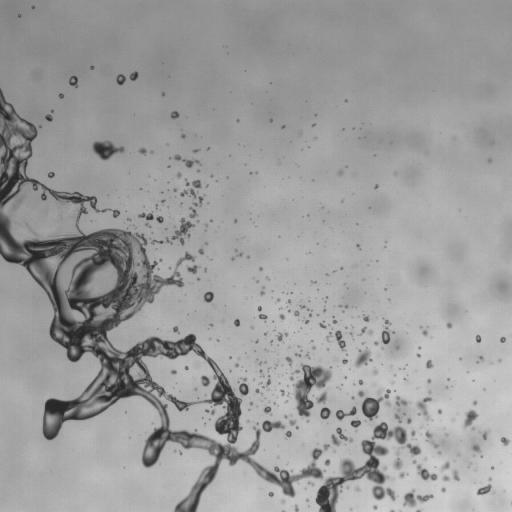droplet: (92, 140, 124, 161), (171, 217, 195, 245), (354, 347, 372, 367), (463, 409, 478, 430), (312, 390, 327, 404), (350, 417, 361, 432), (320, 407, 332, 419), (275, 331, 288, 342), (186, 264, 200, 274), (203, 291, 214, 302), (439, 461, 450, 472), (125, 143, 136, 154), (24, 166, 35, 177), (185, 169, 196, 180), (64, 183, 75, 194), (108, 218, 119, 229), (193, 254, 204, 265), (158, 267, 169, 278), (180, 270, 191, 281), (310, 300, 321, 311), (45, 307, 56, 318), (267, 308, 278, 319), (275, 320, 286, 331), (372, 322, 383, 333), (136, 331, 147, 342), (363, 333, 374, 344), (119, 341, 130, 352), (277, 345, 288, 356), (368, 345, 379, 356), (82, 350, 93, 361), (347, 350, 358, 361), (89, 355, 100, 366), (291, 357, 302, 368), (218, 361, 229, 372), (307, 387, 318, 398), (263, 388, 274, 399), (57, 390, 68, 401), (309, 404, 320, 415), (406, 404, 417, 415), (148, 407, 159, 418), (412, 414, 423, 425), (61, 419, 72, 430), (362, 428, 373, 439), (488, 432, 499, 443), (384, 436, 395, 447), (164, 439, 175, 450), (234, 441, 245, 452), (399, 447, 410, 458), (337, 448, 348, 459), (357, 452, 368, 463), (300, 456, 311, 467), (401, 460, 412, 471), (289, 464, 300, 475), (331, 466, 342, 477), (322, 467, 333, 478), (187, 473, 198, 484), (359, 475, 370, 486), (312, 477, 323, 488), (363, 478, 374, 489), (271, 483, 282, 494), (337, 483, 348, 494), (179, 486, 190, 497), (394, 487, 405, 498), (188, 206, 198, 218), (200, 375, 210, 386), (116, 74, 125, 85), (69, 76, 78, 87), (332, 502, 343, 511), (129, 71, 138, 81), (500, 437, 510, 446), (471, 444, 481, 453), (452, 469, 459, 481), (258, 313, 267, 322), (263, 406, 272, 415), (97, 134, 106, 143), (176, 161, 185, 170), (38, 174, 47, 183), (44, 178, 53, 187), (195, 186, 204, 195), (80, 187, 89, 196), (183, 194, 192, 203), (14, 262, 23, 271), (177, 264, 186, 273), (161, 283, 170, 292), (291, 295, 300, 304), (309, 316, 318, 325), (169, 333, 178, 342), (259, 337, 268, 346), (301, 342, 310, 351), (308, 359, 317, 368), (287, 385, 296, 394), (127, 394, 136, 403), (117, 396, 126, 405), (354, 397, 363, 406), (289, 398, 298, 407), (354, 410, 363, 419), (295, 414, 304, 423), (237, 415, 246, 424), (372, 415, 381, 424), (386, 421, 395, 430), (236, 430, 245, 439), (404, 434, 413, 443), (474, 436, 483, 445), (374, 437, 383, 446), (206, 455, 215, 464), (219, 457, 228, 466), (314, 459, 323, 468), (214, 469, 223, 478), (434, 477, 443, 486), (309, 488, 318, 497), (395, 493, 404, 502), (170, 111, 179, 119), (482, 430, 490, 439), (394, 413, 401, 423), (310, 505, 321, 511), (403, 505, 414, 511), (138, 147, 146, 155), (362, 314, 370, 322), (441, 474, 450, 481), (422, 326, 428, 336), (44, 114, 52, 121), (156, 215, 163, 223), (426, 360, 433, 368), (357, 390, 365, 397), (475, 334, 481, 343), (255, 388, 262, 395), (292, 504, 299, 511), (124, 77, 131, 84), (30, 139, 37, 146), (112, 141, 119, 148), (92, 152, 99, 159), (110, 152, 117, 159), (169, 158, 176, 165), (178, 183, 185, 190), (82, 200, 89, 207), (150, 218, 157, 225), (187, 226, 194, 233), (190, 249, 197, 256), (185, 259, 192, 266), (9, 261, 16, 268), (151, 267, 158, 274), (257, 271, 264, 278), (259, 278, 266, 285), (169, 283, 176, 290), (279, 298, 286, 305), (289, 303, 296, 310), (299, 308, 306, 315), (118, 320, 125, 327), (43, 323, 50, 330), (332, 323, 339, 330), (387, 324, 394, 331), (105, 329, 112, 336), (178, 332, 185, 339), (59, 346, 66, 353), (204, 349, 211, 356), (338, 351, 345, 358), (260, 363, 267, 370), (321, 363, 328, 370), (397, 370, 404, 377), (371, 374, 378, 381), (247, 385, 254, 392), (233, 390, 240, 397), (388, 392, 395, 399), (416, 394, 423, 401), (323, 400, 330, 407), (238, 403, 245, 410), (467, 403, 474, 410), (38, 404, 45, 411), (472, 405, 479, 412), (343, 406, 350, 413), (355, 407, 362, 414), (328, 412, 335, 419), (263, 413, 270, 420), (351, 413, 358, 420), (459, 413, 466, 420), (346, 414, 353, 421), (268, 415, 275, 422), (281, 418, 288, 425), (471, 418, 478, 425), (154, 421, 161, 428), (400, 421, 407, 428), (284, 423, 291, 430), (57, 428, 64, 435), (146, 428, 153, 435), (259, 430, 266, 437), (431, 434, 438, 441), (325, 437, 332, 444), (188, 446, 195, 453), (201, 448, 208, 455), (158, 450, 165, 457), (249, 453, 256, 460), (362, 453, 369, 460), (375, 453, 382, 460), (414, 453, 421, 460), (236, 458, 243, 465), (151, 462, 158, 469), (448, 463, 455, 470), (376, 464, 383, 471), (399, 465, 406, 472), (444, 468, 451, 475), (381, 469, 388, 476), (436, 471, 443, 478), (307, 474, 314, 481), (300, 476, 307, 483), (343, 479, 350, 486), (290, 480, 297, 487), (441, 480, 448, 487), (479, 480, 486, 487), (380, 481, 387, 488), (199, 491, 206, 498), (382, 493, 389, 500), (172, 497, 179, 504), (371, 497, 378, 504), (198, 246, 204, 254), (286, 299, 292, 307), (233, 318, 239, 326), (173, 326, 179, 334), (372, 367, 378, 375), (285, 430, 291, 438), (506, 335, 511, 344), (506, 431, 511, 440), (194, 506, 203, 511), (176, 171, 182, 178), (279, 313, 285, 320), (324, 459, 330, 466), (307, 480, 314, 486), (332, 316, 337, 324), (48, 172, 54, 178), (446, 322, 452, 328), (500, 336, 506, 342), (342, 358, 348, 364), (0, 146, 4, 155), (294, 310, 299, 317), (280, 389, 285, 396), (192, 149, 200, 153), (356, 244, 361, 250), (303, 319, 309, 324), (273, 363, 278, 369), (170, 369, 176, 374), (358, 379, 363, 385), (437, 408, 442, 414), (406, 417, 411, 423), (354, 486, 360, 491), (440, 487, 446, 492), (268, 491, 273, 497), (507, 440, 511, 447), (58, 93, 63, 98), (338, 170, 343, 175), (275, 298, 280, 303), (472, 400, 477, 405), (129, 68, 134, 73), (135, 76, 140, 81), (69, 84, 74, 89), (2, 91, 7, 96), (4, 96, 9, 101), (14, 107, 19, 112), (166, 110, 171, 115), (50, 112, 55, 117), (27, 117, 32, 122), (173, 117, 178, 122), (36, 128, 41, 133), (176, 130, 181, 135), (138, 143, 143, 148), (145, 147, 150, 152), (138, 152, 143, 157), (169, 152, 174, 157), (186, 155, 191, 160), (26, 158, 31, 163), (191, 162, 196, 167), (342, 167, 347, 172), (172, 169, 177, 174), (179, 175, 184, 180), (187, 177, 192, 182), (200, 181, 205, 186), (188, 183, 193, 188), (192, 186, 197, 191), (178, 187, 183, 192), (87, 191, 92, 196), (179, 196, 184, 201), (194, 197, 199, 202), (157, 202, 162, 207), (94, 203, 99, 208), (111, 204, 116, 209), (194, 206, 199, 211), (187, 209, 192, 214), (107, 210, 112, 215), (152, 213, 157, 218), (116, 214, 121, 219), (141, 216, 146, 221), (184, 216, 189, 221), (189, 218, 194, 223), (147, 219, 152, 224), (160, 221, 165, 226), (175, 225, 180, 230), (130, 229, 135, 234), (83, 230, 88, 235), (143, 233, 148, 238), (146, 238, 151, 243), (174, 238, 179, 243), (195, 244, 200, 249), (202, 247, 207, 252), (179, 252, 184, 257), (241, 253, 246, 258), (173, 256, 178, 261), (234, 256, 239, 261), (148, 259, 153, 264), (170, 263, 175, 268), (195, 267, 200, 272), (326, 268, 331, 273), (26, 273, 31, 278), (32, 280, 37, 285), (312, 283, 317, 288), (206, 286, 211, 291), (256, 286, 261, 291), (203, 287, 208, 292), (209, 287, 214, 292), (153, 293, 158, 298), (286, 293, 291, 298), (199, 295, 204, 300), (211, 297, 216, 302), (144, 301, 149, 306), (206, 301, 211, 306), (276, 301, 281, 306), (305, 302, 310, 307), (259, 309, 264, 314), (281, 309, 286, 314), (289, 310, 294, 315), (311, 310, 316, 315), (126, 317, 131, 322), (448, 318, 453, 323), (238, 319, 243, 324), (46, 320, 51, 325), (362, 320, 367, 325), (299, 321, 304, 326), (451, 322, 456, 327), (230, 323, 235, 328), (441, 323, 446, 328), (325, 326, 330, 331), (346, 327, 351, 332), (417, 328, 422, 333), (426, 328, 431, 333), (287, 331, 292, 336), (362, 331, 367, 336), (389, 333, 394, 338), (160, 335, 165, 340), (281, 335, 286, 340), (331, 335, 336, 340), (272, 336, 277, 341), (377, 337, 382, 342), (194, 338, 199, 343), (388, 339, 393, 344), (312, 340, 317, 345), (323, 341, 328, 346), (383, 343, 388, 348), (201, 345, 206, 350), (360, 345, 365, 350), (308, 348, 313, 353), (416, 348, 421, 353), (300, 350, 305, 355), (289, 353, 294, 358), (259, 356, 264, 361), (65, 358, 70, 363), (231, 358, 236, 363), (430, 359, 435, 364), (283, 360, 288, 365), (421, 360, 426, 365), (493, 360, 498, 365), (344, 362, 349, 367), (399, 362, 404, 367), (360, 363, 365, 368), (255, 364, 260, 369), (231, 366, 236, 371), (376, 366, 381, 371), (392, 367, 397, 372), (426, 367, 431, 372), (262, 369, 267, 374), (92, 371, 97, 376), (223, 371, 228, 376), (269, 376, 274, 381), (262, 377, 267, 382), (86, 378, 91, 383), (340, 378, 345, 383), (324, 380, 329, 385), (446, 380, 451, 385), (427, 382, 432, 387), (256, 384, 261, 389), (358, 384, 363, 389), (395, 390, 400, 395), (423, 392, 428, 397), (325, 393, 330, 398), (282, 394, 287, 399), (399, 394, 404, 399), (359, 396, 364, 401), (468, 397, 473, 402), (145, 400, 150, 405), (424, 400, 429, 405), (378, 401, 383, 406), (399, 403, 404, 408), (270, 404, 275, 409), (107, 405, 112, 410), (415, 407, 420, 412), (464, 407, 469, 412), (293, 408, 298, 413), (102, 409, 107, 414), (397, 411, 402, 416), (436, 413, 441, 418), (93, 414, 98, 419), (419, 414, 424, 419), (88, 416, 93, 421), (82, 418, 87, 423), (321, 418, 326, 423), (258, 419, 263, 424), (257, 424, 262, 429), (357, 424, 362, 429), (466, 424, 471, 429), (349, 425, 354, 430), (270, 427, 275, 432), (420, 428, 425, 433), (341, 430, 346, 435), (38, 431, 43, 436), (334, 432, 339, 437), (486, 433, 491, 438), (504, 434, 509, 439), (251, 435, 256, 440), (41, 436, 46, 441), (52, 436, 57, 441), (339, 438, 344, 443), (140, 441, 145, 446), (410, 441, 415, 446), (229, 442, 234, 447), (318, 444, 323, 449), (357, 444, 362, 449), (257, 445, 262, 450), (436, 445, 441, 450), (308, 446, 313, 451), (138, 447, 143, 452), (433, 447, 438, 452), (474, 451, 479, 456), (137, 458, 142, 463), (440, 459, 445, 464), (258, 460, 263, 465), (411, 463, 416, 468), (420, 463, 425, 468), (469, 464, 474, 469), (278, 465, 283, 470), (269, 468, 274, 473), (427, 469, 432, 474), (457, 472, 462, 477), (416, 474, 421, 479), (426, 477, 431, 482), (489, 480, 494, 485), (341, 481, 346, 486), (390, 485, 395, 490), (473, 486, 478, 491), (405, 488, 410, 493), (353, 490, 358, 495), (412, 491, 417, 496), (419, 491, 424, 496), (483, 492, 488, 497), (284, 494, 289, 499), (280, 504, 285, 509), (297, 504, 302, 509), (310, 280, 316, 284), (257, 305, 261, 311), (252, 339, 258, 343), (374, 184, 378, 189), (173, 188, 178, 192), (161, 199, 165, 204), (265, 276, 270, 280), (373, 341, 378, 345), (416, 353, 421, 357), (478, 356, 483, 360), (184, 365, 188, 370), (427, 378, 431, 383), (371, 383, 376, 387), (249, 401, 253, 406), (419, 424, 424, 428), (423, 456, 427, 461), (280, 499, 285, 503), (181, 134, 185, 138), (127, 217, 131, 221), (209, 323, 213, 327), (250, 325, 254, 329), (264, 331, 268, 335), (312, 345, 316, 349), (234, 363, 238, 367), (392, 373, 396, 377), (342, 375, 346, 379), (246, 419, 250, 423), (305, 498, 309, 502), (373, 505, 377, 509), (349, 507, 353, 511), (234, 218, 237, 223), (259, 266, 262, 271), (270, 340, 273, 345), (179, 450, 182, 455), (289, 508, 294, 511), (31, 5, 34, 9), (90, 66, 94, 69), (161, 92, 164, 96), (236, 118, 239, 122), (269, 118, 272, 122), (312, 123, 316, 126), (281, 125, 285, 128), (206, 147, 210, 150), (488, 158, 491, 162), (246, 255, 250, 258), (396, 345, 399, 349), (498, 358, 501, 362), (390, 365, 393, 369), (445, 385, 448, 389), (194, 387, 197, 391), (350, 396, 354, 399), (284, 400, 288, 403), (451, 418, 455, 421), (437, 451, 441, 454), (488, 477, 491, 481), (204, 267, 206, 272), (0, 127, 2, 132), (0, 254, 2, 259), (344, 99, 347, 102), (314, 136, 317, 139), (150, 150, 153, 153), (196, 169, 199, 172), (249, 171, 252, 174), (210, 174, 213, 177), (205, 184, 208, 187), (139, 187, 142, 190), (209, 219, 212, 222), (196, 220, 199, 223), (168, 266, 171, 269), (340, 266, 343, 269), (197, 277, 200, 280), (256, 280, 259, 283), (387, 298, 390, 301), (287, 309, 290, 312), (419, 325, 422, 328), (344, 326, 347, 329), (208, 337, 211, 340), (310, 339, 313, 342), (418, 346, 421, 349), (326, 348, 329, 351), (459, 357, 462, 360), (403, 378, 406, 381), (391, 381, 394, 384), (445, 433, 448, 436), (173, 449, 176, 452), (472, 454, 475, 457), (480, 455, 483, 458), (491, 466, 494, 469), (31, 2, 34, 5), (34, 4, 37, 7), (28, 6, 31, 9), (31, 8, 34, 11), (14, 13, 17, 16), (20, 14, 23, 17), (17, 17, 20, 20), (90, 62, 93, 65), (87, 66, 90, 69), (93, 66, 96, 69), (90, 69, 93, 72), (71, 72, 74, 75), (76, 76, 79, 79), (76, 80, 79, 83), (114, 81, 117, 84), (60, 90, 63, 93), (56, 91, 59, 94), (158, 92, 161, 95), (164, 92, 167, 95), (63, 94, 66, 97), (56, 96, 59, 99), (60, 97, 63, 100), (341, 97, 344, 100), (346, 97, 349, 100), (343, 101, 346, 104), (50, 106, 53, 109), (171, 108, 174, 111), (177, 110, 180, 113), (48, 111, 51, 114), (20, 115, 23, 118), (268, 115, 271, 118), (168, 116, 171, 119), (233, 117, 236, 120), (239, 118, 242, 121), (45, 119, 48, 122), (266, 119, 269, 122), (271, 120, 274, 123), (311, 120, 314, 123), (280, 122, 283, 125), (308, 123, 311, 126), (341, 124, 344, 127), (312, 125, 315, 128), (282, 127, 285, 130), (182, 131, 185, 134), (184, 135, 187, 138), (180, 137, 183, 140), (204, 145, 207, 148), (123, 146, 126, 149), (193, 146, 196, 149), (208, 148, 211, 151), (195, 151, 198, 154), (165, 155, 168, 158), (199, 160, 202, 163), (167, 167, 170, 170), (199, 168, 202, 171), (46, 169, 49, 172), (51, 169, 54, 172), (251, 171, 254, 174), (207, 172, 210, 175), (52, 175, 55, 178), (174, 176, 177, 179), (211, 176, 214, 179), (372, 183, 375, 186), (139, 184, 142, 187), (207, 185, 210, 188), (375, 187, 378, 190), (159, 188, 162, 191), (169, 188, 172, 191), (139, 189, 142, 192), (78, 190, 81, 193), (163, 190, 166, 193), (95, 195, 98, 198), (160, 196, 163, 199), (201, 199, 204, 202), (163, 200, 166, 203), (176, 201, 179, 204), (192, 205, 195, 208), (98, 211, 101, 214), (119, 211, 122, 214), (138, 211, 141, 214), (303, 214, 306, 217), (128, 215, 131, 218), (178, 216, 181, 219), (231, 217, 234, 220), (212, 218, 215, 221), (162, 219, 165, 222), (236, 219, 239, 222), (208, 221, 211, 224), (202, 225, 205, 228), (126, 228, 129, 231), (172, 232, 175, 235), (151, 236, 154, 239), (156, 237, 159, 240), (168, 237, 171, 240), (162, 238, 165, 241), (356, 240, 359, 243), (153, 241, 156, 244), (161, 242, 164, 245), (167, 242, 170, 245), (384, 242, 387, 245), (359, 244, 362, 247), (355, 246, 358, 249), (383, 247, 386, 250), (144, 250, 147, 253), (236, 251, 239, 254), (247, 252, 250, 255), (159, 255, 162, 258), (208, 255, 211, 258), (375, 256, 378, 259), (155, 258, 158, 261), (247, 258, 250, 261), (228, 259, 231, 262), (372, 259, 375, 262), (154, 264, 157, 267), (260, 264, 263, 267), (255, 266, 258, 269), (332, 267, 335, 270), (336, 267, 339, 270), (206, 268, 209, 271), (340, 269, 343, 272), (259, 270, 262, 273), (333, 271, 336, 274), (268, 275, 271, 278), (324, 275, 327, 278), (255, 276, 258, 279), (312, 277, 315, 280), (199, 278, 202, 281), (181, 279, 184, 282), (252, 279, 255, 282), (196, 280, 199, 283), (316, 280, 319, 283), (307, 281, 310, 284), (345, 283, 348, 286), (383, 284, 386, 287), (380, 287, 383, 290), (262, 288, 265, 291), (290, 288, 293, 291), (386, 288, 389, 291), (283, 290, 286, 293), (383, 290, 386, 293), (257, 292, 260, 295), (261, 294, 264, 297), (327, 295, 330, 298), (273, 297, 276, 300), (323, 297, 326, 300), (284, 298, 287, 301), (290, 298, 293, 301), (385, 299, 388, 302), (321, 301, 324, 304), (257, 302, 260, 305), (300, 302, 303, 305), (341, 302, 344, 305), (260, 304, 263, 307), (347, 304, 350, 307), (254, 306, 257, 309), (324, 306, 327, 309), (341, 306, 344, 309), (285, 307, 288, 310), (302, 307, 305, 310), (320, 307, 323, 310), (307, 310, 310, 313), (324, 310, 327, 313), (255, 315, 258, 318), (294, 315, 297, 318), (368, 315, 371, 318), (233, 316, 236, 319), (306, 316, 309, 319), (333, 316, 336, 319), (384, 316, 387, 319), (265, 317, 268, 320), (278, 317, 281, 320), (330, 317, 333, 320), (282, 318, 285, 321), (381, 319, 384, 322), (388, 319, 391, 322), (209, 320, 212, 323), (307, 321, 310, 324), (271, 322, 274, 325), (172, 323, 175, 326), (208, 325, 211, 328), (236, 325, 239, 328), (360, 325, 363, 328), (271, 326, 274, 329), (319, 326, 322, 329), (422, 326, 425, 329), (448, 327, 451, 330), (170, 328, 173, 331), (298, 328, 301, 331), (263, 329, 266, 332), (284, 329, 287, 332), (294, 329, 297, 332), (358, 329, 361, 332), (260, 332, 263, 335), (266, 332, 269, 335), (331, 332, 334, 335), (501, 333, 504, 336), (217, 336, 220, 339), (310, 336, 313, 339), (497, 336, 500, 339), (253, 337, 256, 340), (307, 338, 310, 341), (480, 338, 483, 341), (323, 339, 326, 342), (473, 339, 476, 342), (497, 339, 500, 342), (214, 340, 217, 343), (251, 341, 254, 344), (310, 341, 313, 344), (344, 341, 347, 344), (255, 342, 258, 345), (267, 342, 270, 345), (298, 342, 301, 345), (500, 342, 503, 345), (416, 343, 419, 346), (336, 344, 339, 347), (315, 346, 318, 349), (255, 348, 258, 351), (323, 348, 326, 351), (296, 350, 299, 353), (228, 352, 231, 355), (308, 352, 311, 355), (478, 352, 481, 355), (459, 354, 462, 357), (225, 355, 228, 358), (231, 355, 234, 358), (369, 355, 372, 358), (414, 355, 417, 358), (482, 355, 485, 358), (344, 356, 347, 359), (455, 356, 458, 359), (252, 357, 255, 360), (476, 357, 479, 360), (256, 359, 259, 362), (339, 359, 342, 362), (274, 360, 277, 363), (366, 360, 369, 363), (404, 360, 407, 363), (216, 362, 219, 365), (407, 362, 410, 365), (272, 364, 275, 367), (218, 365, 221, 368), (237, 365, 240, 368), (404, 365, 407, 368), (275, 366, 278, 369), (268, 368, 271, 371), (400, 368, 403, 371), (256, 370, 259, 373), (268, 371, 271, 374), (343, 372, 346, 375), (288, 373, 291, 376), (241, 374, 244, 377), (446, 374, 449, 377), (346, 376, 349, 379), (358, 376, 361, 379), (392, 376, 395, 379), (405, 376, 408, 379), (471, 376, 474, 379), (443, 377, 446, 380), (361, 378, 364, 381), (424, 378, 427, 381), (401, 379, 404, 382), (430, 379, 433, 382), (355, 381, 358, 384), (362, 381, 365, 384), (471, 381, 474, 384), (267, 384, 270, 387), (447, 384, 450, 387), (339, 385, 342, 388), (280, 386, 283, 389), (335, 387, 338, 390), (258, 388, 261, 391), (390, 389, 393, 392), (278, 391, 281, 394), (284, 391, 287, 394), (257, 392, 260, 395), (275, 400, 278, 403), (252, 401, 255, 404), (476, 401, 479, 404), (266, 403, 269, 406), (394, 404, 397, 407), (336, 407, 339, 410), (441, 409, 444, 412), (126, 410, 129, 413), (427, 419, 430, 422), (428, 430, 431, 433), (290, 433, 293, 436), (424, 435, 427, 438), (480, 436, 483, 439), (345, 440, 348, 443), (430, 444, 433, 447), (176, 450, 179, 453), (482, 455, 485, 458), (479, 457, 482, 460), (487, 465, 490, 468), (493, 465, 496, 468), (490, 469, 493, 472), (403, 474, 406, 477), (454, 479, 457, 482), (440, 491, 443, 494), (267, 495, 270, 498), (271, 495, 274, 498), (428, 497, 431, 500), (390, 506, 393, 509), (51, 109, 53, 113), (180, 202, 182, 206), (205, 223, 207, 227), (332, 270, 336, 272), (325, 273, 329, 275), (309, 313, 311, 317), (204, 422, 206, 426), (18, 14, 20, 17), (314, 114, 317, 116), (167, 165, 170, 167), (255, 171, 258, 173), (341, 199, 343, 202), (164, 228, 167, 230), (205, 242, 207, 245), (157, 267, 159, 270), (384, 288, 387, 290), (324, 300, 326, 303), (316, 314, 319, 316), (216, 339, 219, 341), (361, 342, 364, 344), (229, 356, 231, 359), (476, 361, 479, 363), (490, 362, 493, 364), (398, 367, 400, 370), (229, 369, 231, 372), (466, 371, 469, 373), (252, 378, 254, 381), (447, 378, 450, 380), (286, 384, 288, 387), (304, 487, 306, 490), (297, 509, 300, 511), (346, 509, 349, 511), (351, 509, 354, 511), (373, 509, 376, 511), (352, 127, 354, 129), (342, 128, 344, 130), (166, 143, 168, 145), (169, 157, 171, 159), (345, 165, 347, 167), (226, 176, 228, 178), (167, 181, 169, 183), (161, 191, 163, 193), (307, 214, 309, 216), (356, 223, 358, 225), (204, 229, 206, 231), (384, 245, 386, 247), (210, 258, 212, 260), (362, 278, 364, 280), (286, 292, 288, 294), (308, 300, 310, 302), (342, 310, 344, 312), (273, 329, 275, 331), (293, 331, 295, 333), (288, 346, 290, 348), (381, 347, 383, 349), (403, 367, 405, 369), (472, 379, 474, 381), (278, 382, 280, 384), (341, 383, 343, 385), (353, 383, 355, 385), (394, 389, 396, 391), (483, 388, 485, 390), (204, 394, 206, 396), (248, 408, 250, 410), (403, 413, 405, 415), (344, 443, 346, 445), (277, 456, 279, 458), (503, 490, 505, 492), (308, 146, 309, 148), (374, 154, 375, 156), (167, 206, 169, 207), (278, 236, 280, 237), (346, 287, 348, 288), (317, 288, 318, 290), (271, 290, 273, 291), (282, 291, 283, 293), (290, 292, 292, 293), (326, 296, 327, 298), (358, 315, 359, 317), (272, 320, 273, 322), (277, 344, 278, 346), (245, 370, 246, 372), (201, 417, 203, 418), (209, 418, 210, 420), (308, 505, 309, 507), (154, 179, 155, 180), (369, 207, 370, 208), (155, 248, 156, 249), (344, 283, 345, 284), (271, 296, 272, 297), (300, 327, 301, 328), (406, 364, 407, 365), (125, 411, 126, 412)
ligament: (325, 330, 348, 356), (403, 488, 433, 507), (412, 459, 437, 481), (416, 389, 433, 421), (381, 317, 395, 344), (174, 154, 201, 167), (335, 406, 356, 421), (258, 367, 271, 390), (425, 430, 438, 448), (284, 413, 298, 429), (476, 484, 495, 495), (149, 236, 172, 244), (296, 304, 312, 311), (349, 324, 354, 340), (410, 429, 416, 440), (260, 286, 265, 295), (338, 304, 348, 308), (305, 351, 310, 359), (259, 369, 264, 377), (273, 401, 279, 407), (155, 203, 160, 210), (297, 345, 302, 352), (258, 361, 266, 365), (467, 462, 472, 468), (294, 353, 301, 357), (336, 386, 341, 390), (323, 306, 326, 312), (415, 509, 422, 511), (255, 358, 258, 362), (389, 509, 395, 511), (278, 307, 282, 309), (264, 349, 268, 351), (333, 448, 335, 452), (207, 201, 209, 204), (281, 510, 285, 511), (398, 510, 402, 511)
